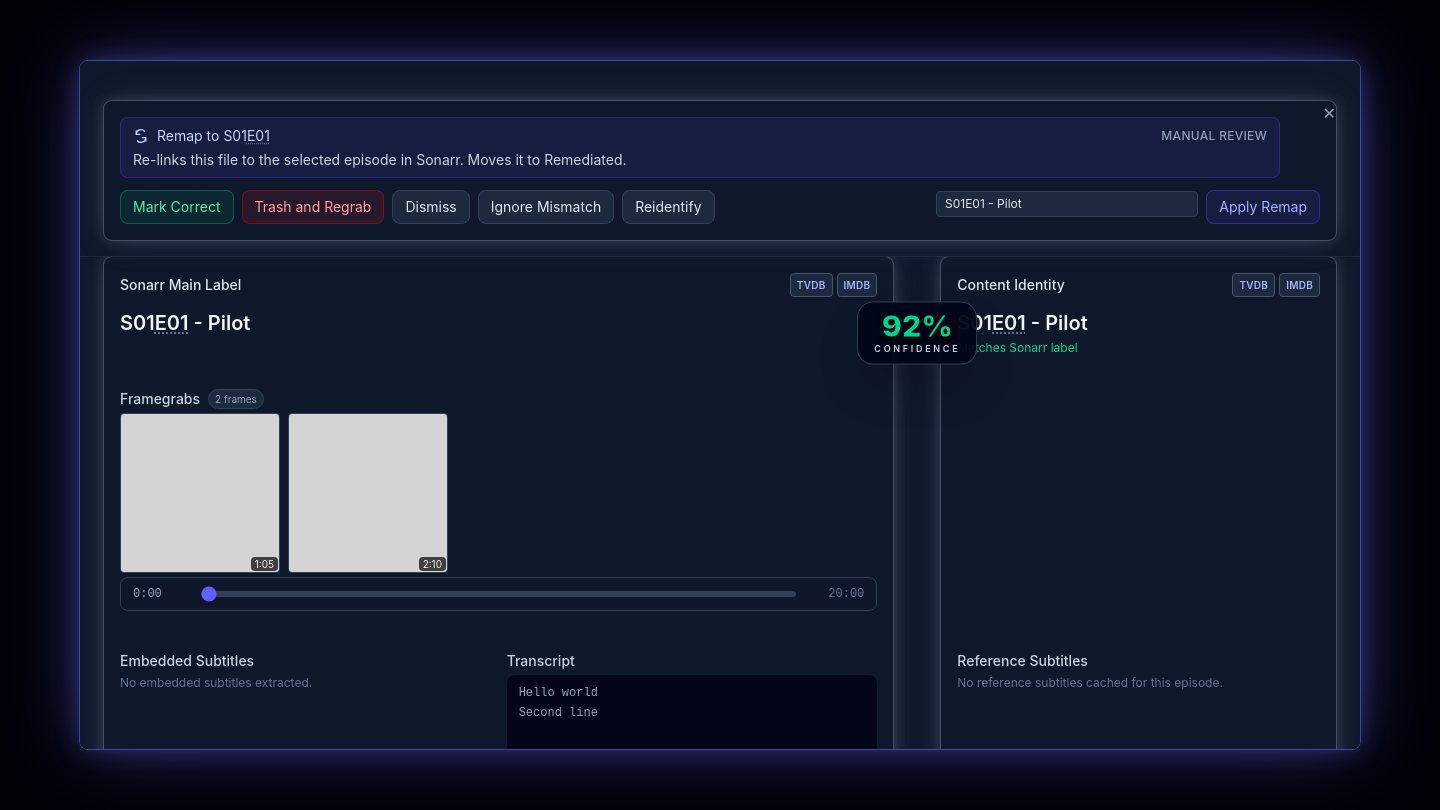
Test case: InspectModal (v4) › the banner's second line defaults to the current proposal's explanation and swaps to the hovered action bar button's explainer, left-aligned under the main line
Check: the dropdown named "Apply Remap" is shown, box [936,191,1198,217]
Step 1. Hover over the button "Mark Correct" → (177, 207), box [120,190,234,224]
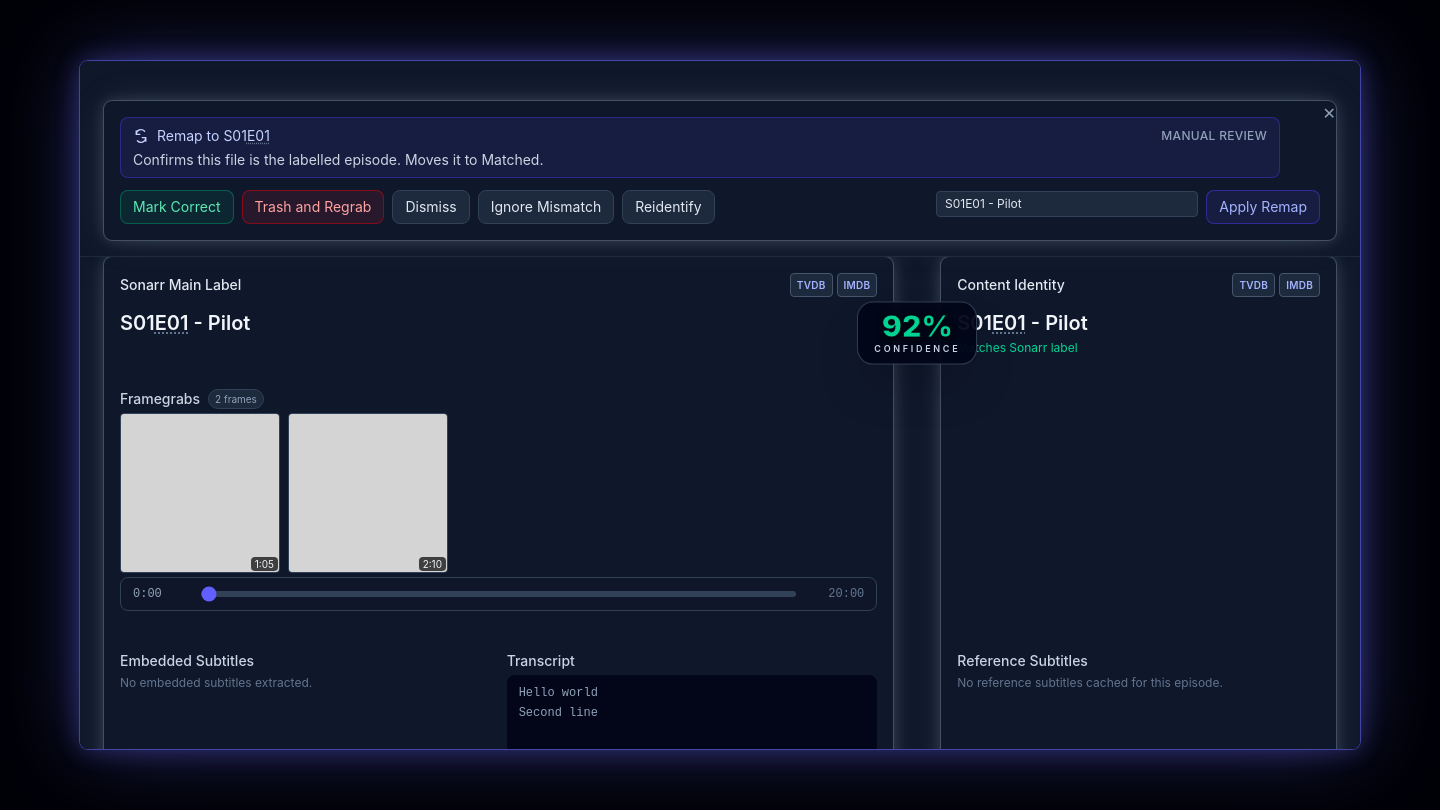
Check: the text "Confirms this file is the labelled episode" is shown, box [133,151,544,168]
Step 2. Hover over the button "Trash and Regrab" → (313, 207), box [242,190,384,224]
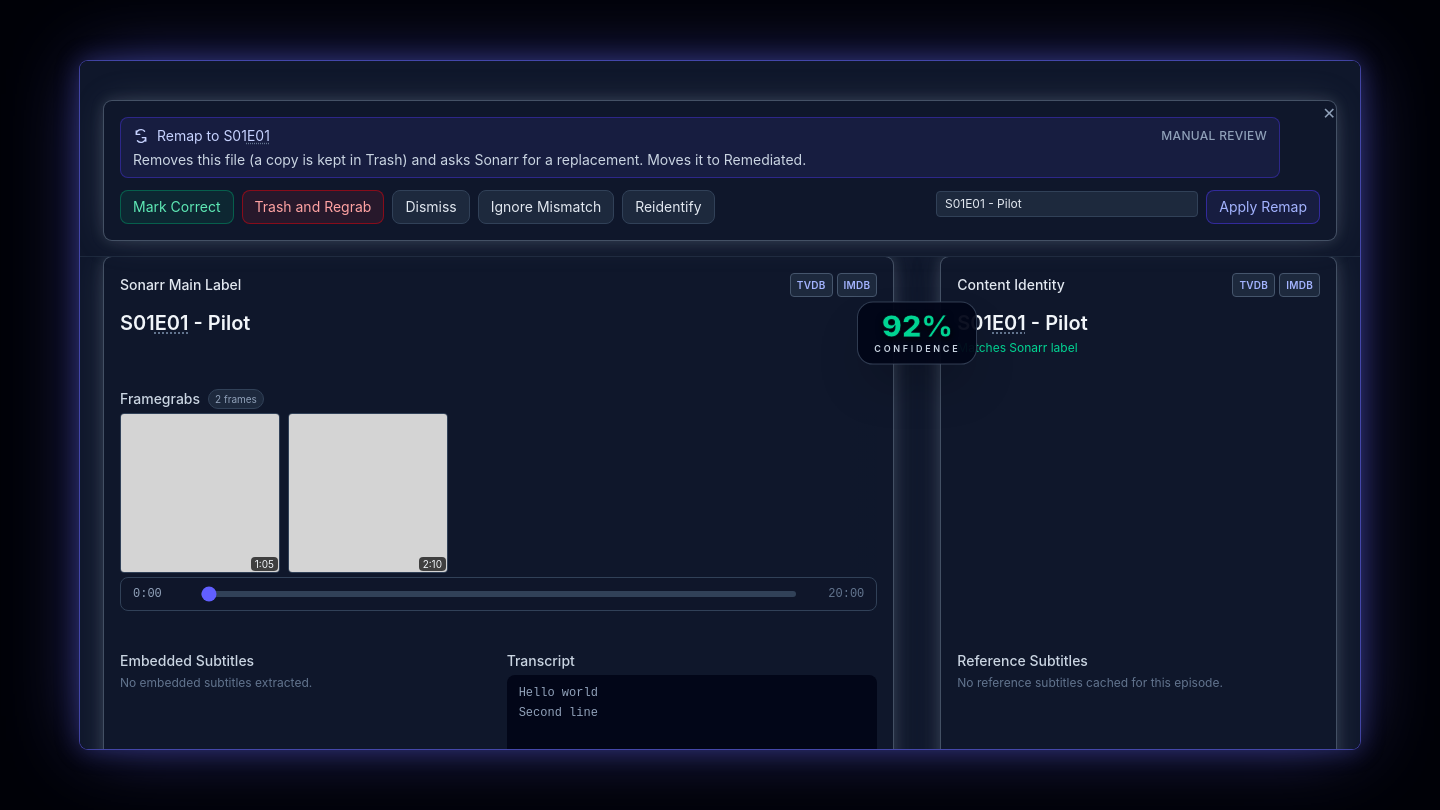
Check: the text "Removes this file" is shown, box [133,151,806,168]
Check: the text "Confirms this file is the labelled episode" is gone
Step 3. Move the pointer off the button "Trash and Regrab", box [242,190,384,224]
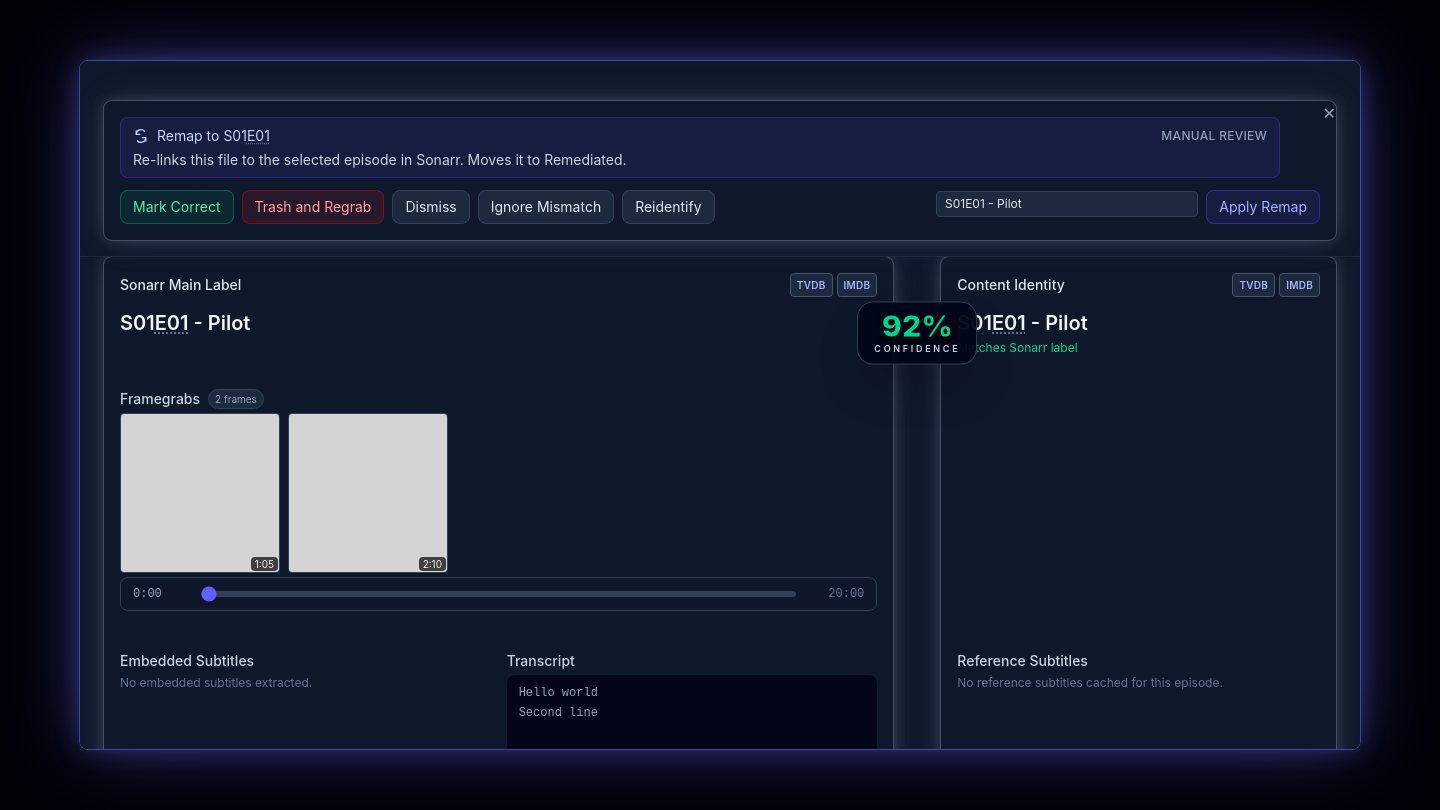
Check: the text "Re-links this file to the selected episode" is shown, box [133,151,627,168]
